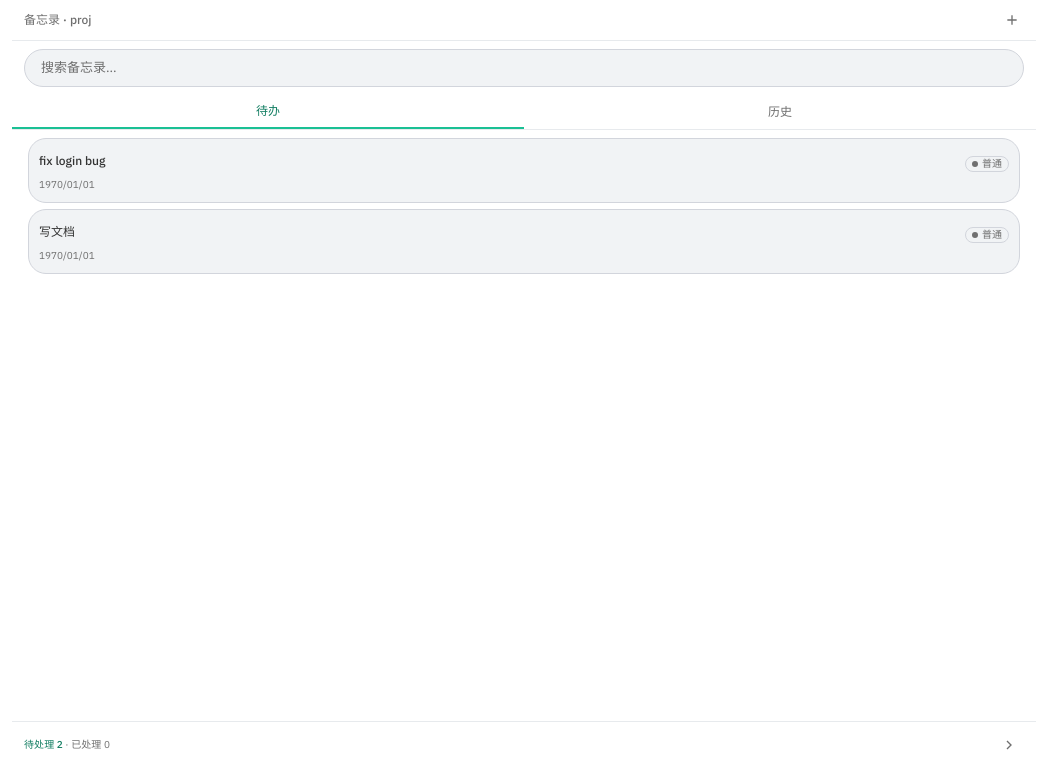
Test case: MemoPanel › 搜索关键词匹配 title + content（大小写不敏感）
Expected: the text "写文档" is shown, [39,224,75,238]
Type "LOGIN" into the field with placeholder "搜索备忘录...".
click(524, 68); type("LOGIN")  # box [24,49,1024,86]
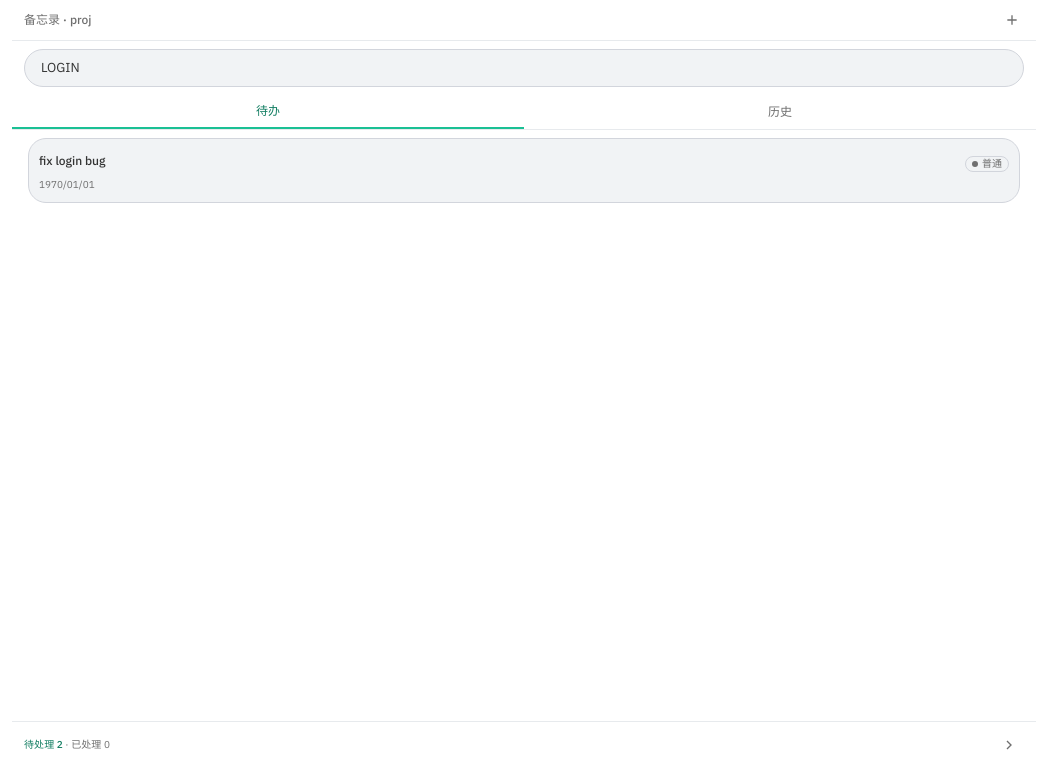
Expected: the text "fix login bug" is shown, [39,152,106,168]
Result: the text "写文档" is gone
Replace the text in the field with placeholder "搜索备忘录..." with "DOCS" at (524, 68), box [24,49,1024,86]
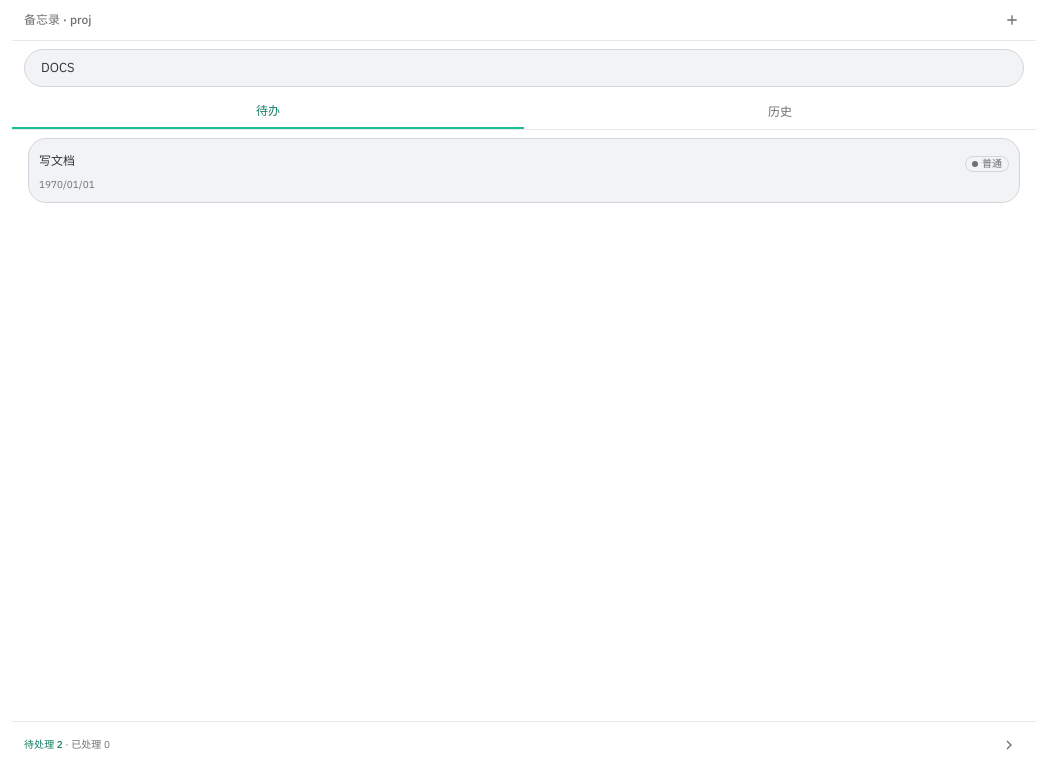
Result: the text "写文档" is shown at [39,152,75,168]
Result: the text "fix login bug" is gone
Replace the text in the field with placeholder "搜索备忘录..." with "zzz-no-match" at (524, 68), box [24,49,1024,86]
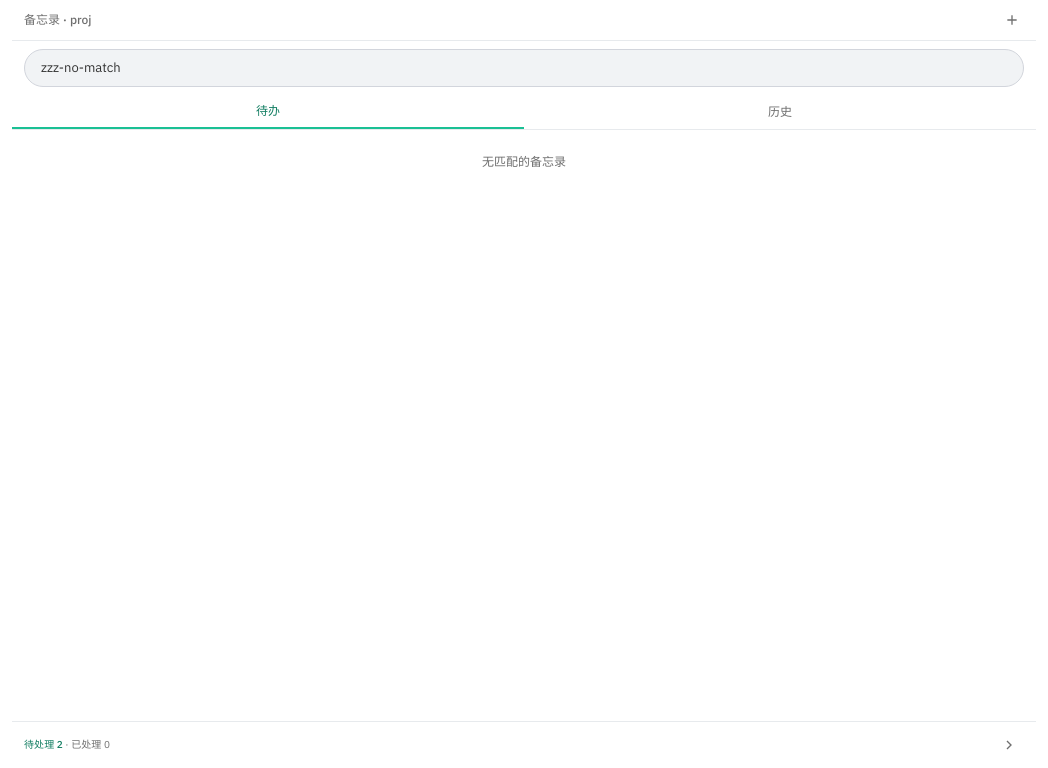
Result: the text "无匹配的备忘录" is shown at [482,154,566,168]
